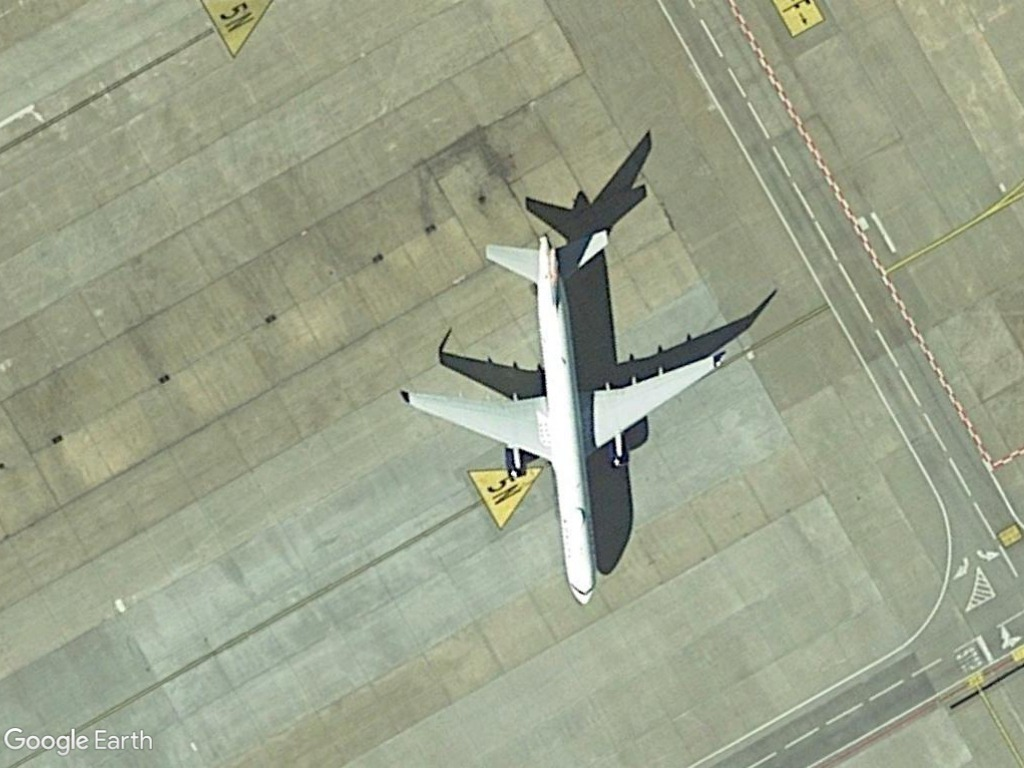airliner: (398, 219, 728, 610)
